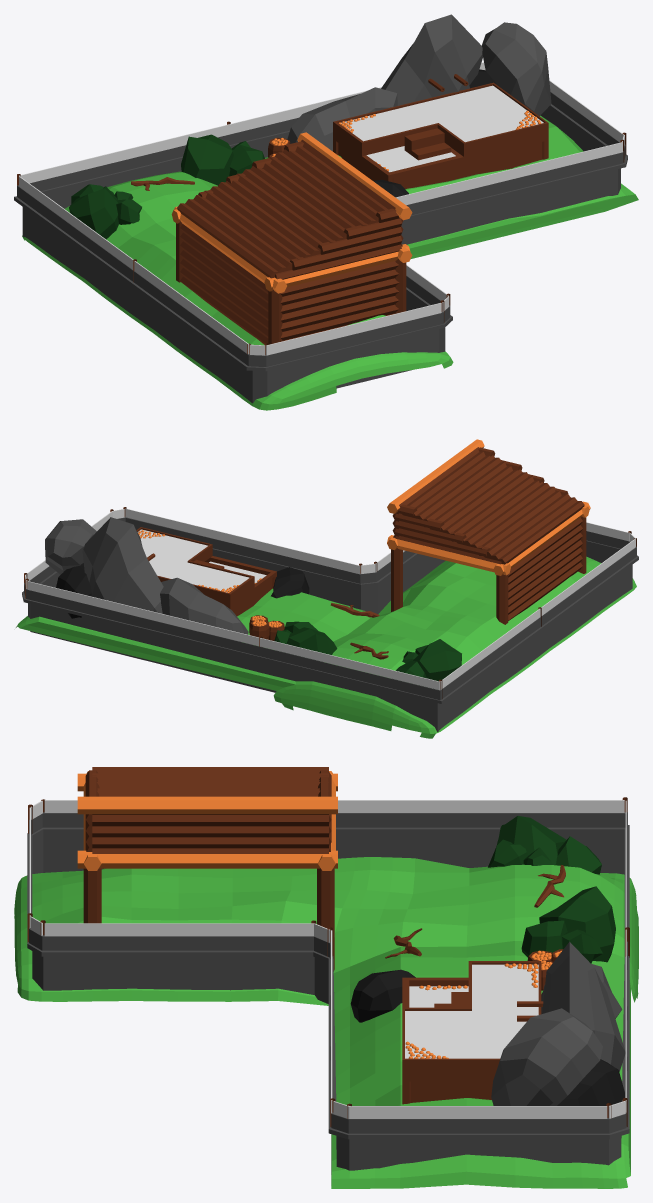
Rendered from Capybara_Level_4.fbx.
The picture shows the model from 3 angles, top to bottom: view 1: azimuth 30°, elevation 25°; view 2: azimuth 150°, elevation 25°; view 3: azimuth 270°, elevation 25°; orthographic projection. The views are drawn at different scales.
Visible parts, largest first — view 1: Log.026; view 2: Log.026; view 3: Log.026.
Boxes of the visible parts, x1,y1,x2,y2 form: Log.026: (14, 14, 638, 410); Log.026: (16, 439, 638, 738); Log.026: (14, 767, 638, 1188).
Size of the model in its own units: 3072 by 922 by 2595.
